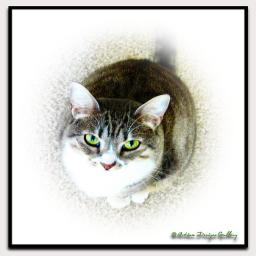catnose: (98, 160, 117, 171)
